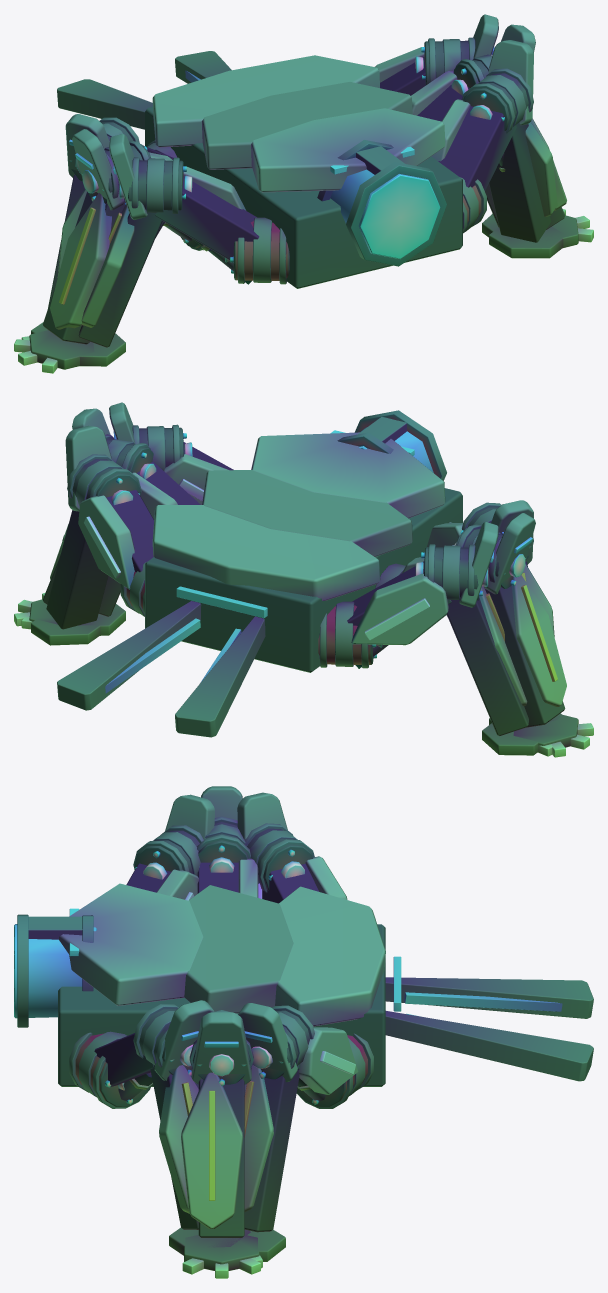
File: beetle.glb
3 views of the same model, one above another, from view 1: azimuth 30°, elevation 25°; view 2: azimuth 150°, elevation 25°; view 3: azimuth 270°, elevation 25° (orthographic). The views are drawn at different scales.
Parts seen in each view (by area): view 1: Body__armor, Body__dark, Body__armor_sub, SacMain__emit_core, Hip_5_Knee__dark, Hip_4__dark, Hip_4_Knee__dark, Hip_2_Knee__armor, Scythe_0__gunmetal, Hip_5__dark, Body__gunmetal, Hip_5_Knee__gunmetal (+30 smaller); view 2: Body__armor, Body__dark, Body__armor_sub, Scythe_0__gunmetal, Hip_0_Knee__dark, Hip_1_Knee__dark, Hip_0__armor, Hip_2_Knee__armor, Hip_2_Knee__dark, Hip_1__armor, Hip_1_Knee__gunmetal, Hip_0_Knee__gunmetal (+32 smaller); view 3: Body__armor, Scythe_0__gunmetal, Body__armor_sub, Body__dark, Hip_3_Knee__armor, Hip_1_Knee__dark, SacMain__emit_core, Hip_5_Knee__armor, Hip_5__dark, Hip_1_Knee__armor, Hip_3_Knee__armor_sub, Hip_1__armor (+30 smaller).
Boxes of the visible parts, bbox=[...] form: Body__armor: bbox=[152, 55, 445, 192]; Body__dark: bbox=[145, 106, 462, 288]; Body__armor_sub: bbox=[201, 82, 412, 169]; SacMain__emit_core: bbox=[330, 169, 440, 258]; Hip_5_Knee__dark: bbox=[463, 73, 551, 242]; Hip_4__dark: bbox=[154, 176, 289, 284]; Hip_4_Knee__dark: bbox=[78, 160, 183, 347]; Hip_2_Knee__armor: bbox=[50, 193, 111, 329]; Scythe_0__gunmetal: bbox=[57, 51, 231, 129]; Hip_5__dark: bbox=[438, 106, 516, 222]; Body__gunmetal: bbox=[317, 140, 446, 266]; Hip_5_Knee__gunmetal: bbox=[462, 68, 564, 258]; Body__armor: bbox=[152, 432, 445, 600]; Body__dark: bbox=[145, 488, 462, 672]; Body__armor_sub: bbox=[202, 470, 412, 556]; Scythe_0__gunmetal: bbox=[57, 601, 265, 737]; Hip_0_Knee__dark: bbox=[424, 547, 528, 735]; Hip_1_Knee__dark: bbox=[46, 459, 140, 629]; Hip_0__armor: bbox=[351, 573, 448, 645]; Hip_2_Knee__armor: bbox=[511, 575, 566, 706]; Hip_2_Knee__dark: bbox=[455, 528, 565, 727]; Hip_1__armor: bbox=[78, 495, 134, 589]; Hip_1_Knee__gunmetal: bbox=[31, 454, 141, 645]; Hip_0_Knee__gunmetal: bbox=[427, 544, 538, 755]; Body__armor: bbox=[58, 883, 385, 1026]; Scythe_0__gunmetal: bbox=[385, 977, 593, 1081]; Body__armor_sub: bbox=[184, 885, 293, 1013]; Body__dark: bbox=[58, 924, 385, 1086]; Hip_3_Knee__armor: bbox=[181, 1072, 243, 1228]; Hip_1_Knee__dark: bbox=[244, 1010, 310, 1232]; SacMain__emit_core: bbox=[14, 924, 96, 1018]; Hip_5_Knee__armor: bbox=[159, 1065, 198, 1213]; Hip_5__dark: bbox=[75, 1033, 153, 1106]; Hip_1_Knee__armor: bbox=[244, 1065, 273, 1211]; Hip_3_Knee__armor_sub: bbox=[191, 1012, 251, 1084]; Hip_1__armor: bbox=[298, 1027, 358, 1094].
Size of the model in its own units: 2.96 by 1.07 by 2.44.
